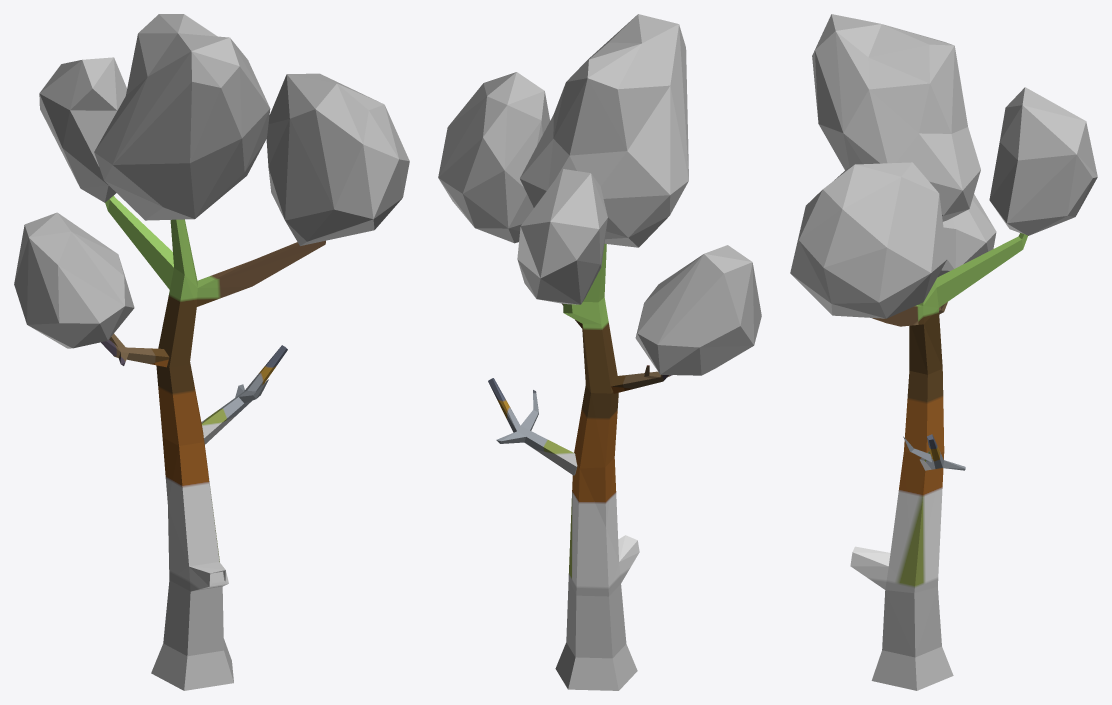
The model's file is Tree_02.fbx.
3 views of the same model, side by side, from view 1: azimuth 30°, elevation 25°; view 2: azimuth 150°, elevation 25°; view 3: azimuth 270°, elevation 25° (orthographic). The views are drawn at different scales.
Visible parts, largest first — view 1: Tree_02; view 2: Tree_02; view 3: Tree_02.
Boxes of the visible parts, x1,y1,x2,y2 form: Tree_02: (14, 14, 409, 690); Tree_02: (438, 14, 761, 690); Tree_02: (790, 14, 1097, 690).
Size of the model in its own units: 8.66 by 15.92 by 6.95.
